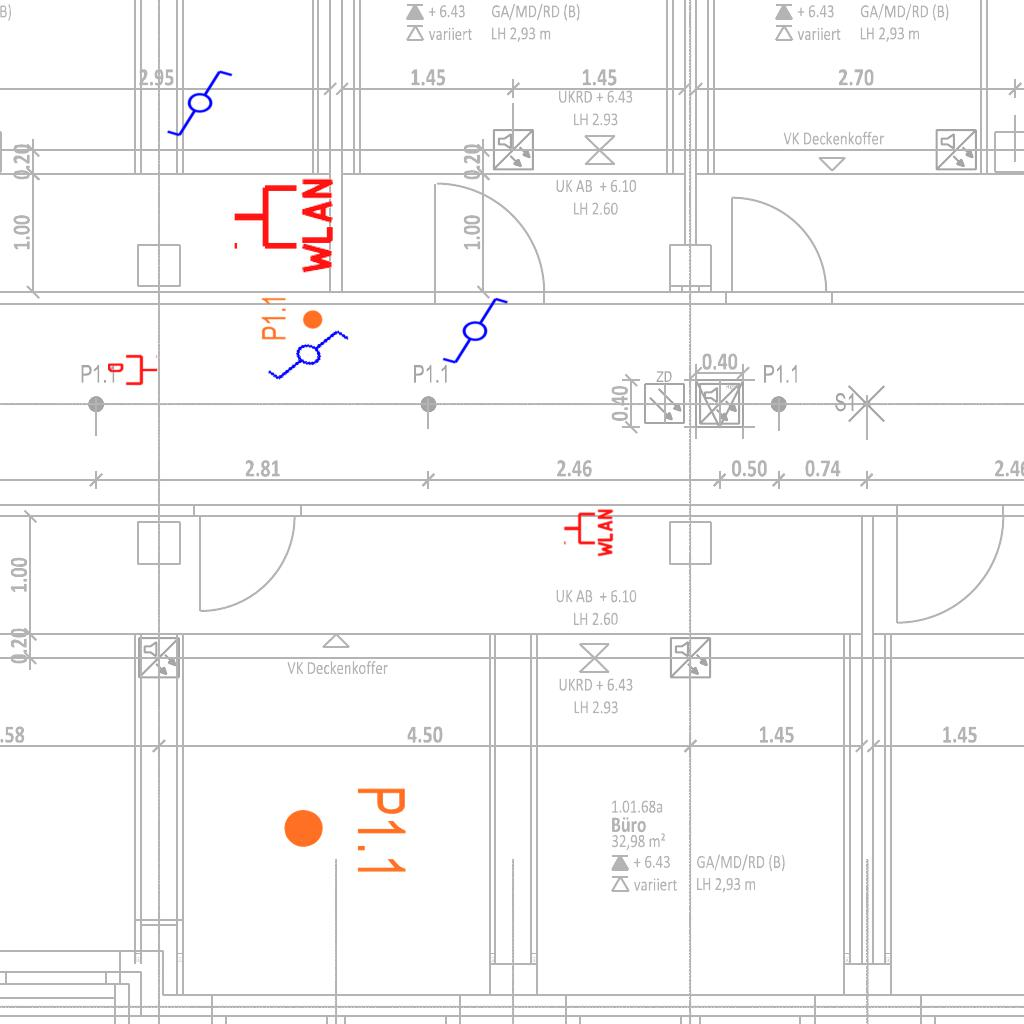Datenanschluss_einfach: (108, 353, 158, 387)
Downlight_LED_Einbauleuchten_Flur: (281, 785, 409, 878), (260, 295, 324, 341)
WLAN: (230, 174, 335, 278), (562, 507, 614, 559)
Wechselschalter: (263, 310, 361, 404), (165, 68, 243, 140), (432, 294, 510, 366)
